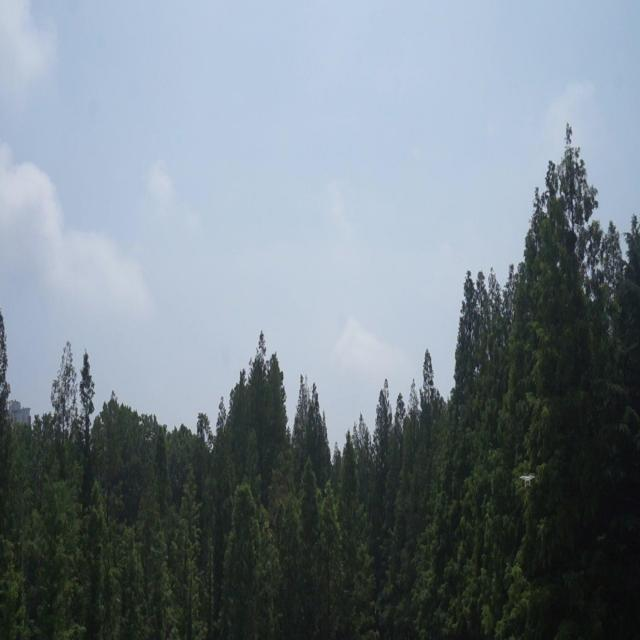UAV: (520, 475, 536, 487)
